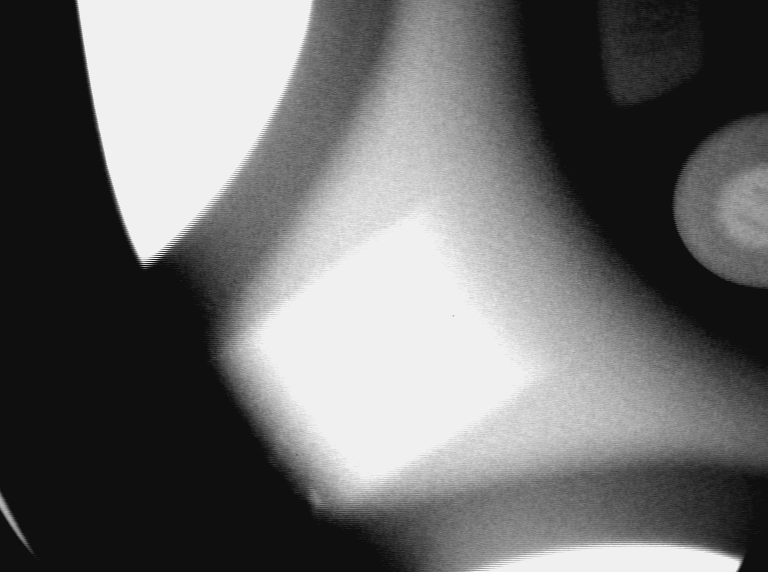defect: (267, 433, 298, 466)
